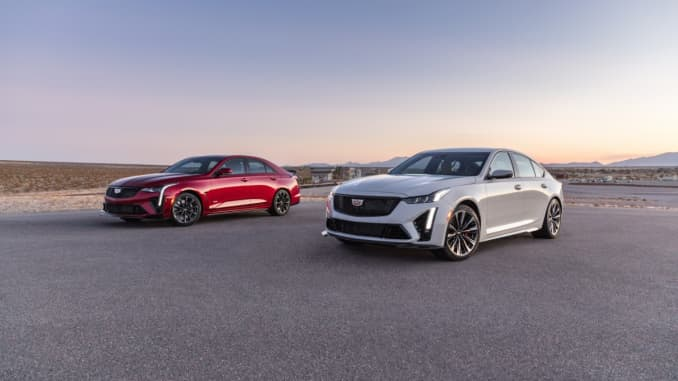car: (320, 146, 564, 259), (102, 154, 301, 227)
